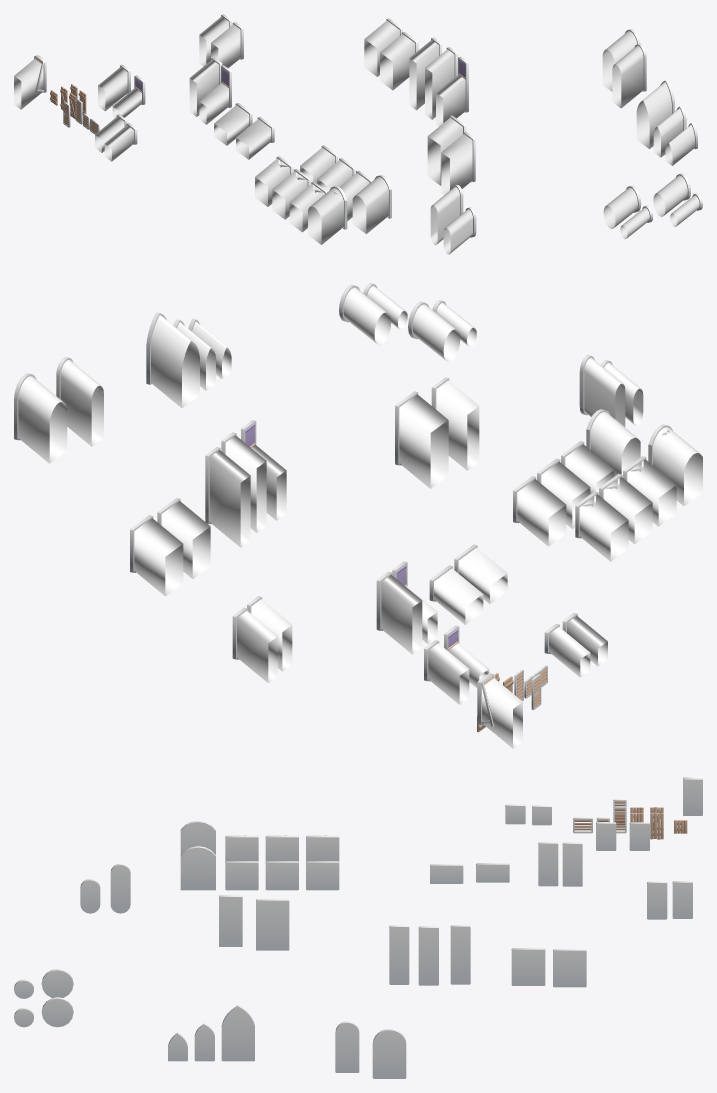
File: windows.glb
3 renders of one model, top to bottom at view 1: azimuth 30°, elevation 25°; view 2: azimuth 150°, elevation 25°; view 3: azimuth 270°, elevation 25°, orthographic. The views are drawn at different scales.
Visible parts, largest first — view 1: (%ignore) (%no-merge) 19, (%ignore) (%no-merge) 18, (%ignore) (%no-merge) 31, (%ignore) (%no-merge) 32, (%ignore) (%no-merge) 11, (%ignore) (%no-merge) 33, (%ignore) (%no-merge) 34, (%ignore) (%no-merge) 4, (%ignore) (%no-merge) 28, (%ignore) (%no-merge) 22, (%ignore) (%no-merge), (%ignore) (%no-merge) 25 (+25 smaller); view 2: (%ignore) (%no-merge) 34, (%ignore) (%no-merge) 11, (%ignore) (%no-merge) 35, (%ignore) (%no-merge) 28, (%ignore) (%no-merge) 36, (%ignore) (%no-merge) 32, (%ignore) (%no-merge) 31, (%ignore) (%no-merge) 18, (%ignore) (%no-merge) 3, (%ignore) (%no-merge) 5, (%ignore) (%no-merge) 10, (%ignore) (%no-merge) 33 (+24 smaller); view 3: window-wide-dividers-tall-extra (%wall), window-medieval-large (%wall), window-wide-dividers-tall-extra-rounded (%wall), window-rounded-closed (%wall), window-wide-dividers-tall (%wall), window-wide-tall (%wall), window-dividers-tall (%wall), window-shutters-tall (%wall), window-tall (%wall), window-wide-dividers-narrow-extra (%wall), window-wide-dividers-narrow-extra-rounded (%wall), window-double (%wall) (+21 smaller).
Boxes of the visible parts, x1,y1,x2,y2 form: (%ignore) (%no-merge) 19: (352, 177, 388, 233); (%ignore) (%no-merge) 18: (308, 188, 343, 244); (%ignore) (%no-merge) 31: (441, 134, 472, 194); (%ignore) (%no-merge) 32: (612, 46, 643, 108); (%ignore) (%no-merge) 11: (636, 82, 671, 148); (%ignore) (%no-merge) 33: (380, 34, 415, 90); (%ignore) (%no-merge) 34: (427, 117, 462, 185); (%ignore) (%no-merge) 4: (425, 49, 454, 119); (%ignore) (%no-merge) 28: (409, 40, 438, 110); (%ignore) (%no-merge) 22: (436, 74, 465, 126); (%ignore) (%no-merge): (430, 186, 460, 245); (%ignore) (%no-merge) 25: (14, 59, 43, 109); (%ignore) (%no-merge) 34: (399, 394, 448, 488); (%ignore) (%no-merge) 11: (151, 315, 199, 407); (%ignore) (%no-merge) 35: (18, 376, 67, 463); (%ignore) (%no-merge) 28: (209, 450, 250, 547); (%ignore) (%no-merge) 36: (134, 518, 183, 596); (%ignore) (%no-merge) 32: (60, 360, 103, 446); (%ignore) (%no-merge) 31: (436, 380, 479, 470); (%ignore) (%no-merge) 18: (653, 427, 702, 505); (%ignore) (%no-merge) 3: (381, 575, 422, 654); (%ignore) (%no-merge) 5: (517, 479, 566, 546); (%ignore) (%no-merge) 10: (579, 494, 628, 561); (%ignore) (%no-merge) 33: (161, 501, 210, 578); window-wide-dividers-tall-extra (%wall): (256, 899, 289, 950); window-medieval-large (%wall): (221, 1005, 254, 1061); window-wide-dividers-tall-extra-rounded (%wall): (372, 1028, 406, 1078); window-rounded-closed (%wall): (180, 846, 215, 890); window-wide-dividers-tall (%wall): (511, 948, 545, 985); window-wide-tall (%wall): (553, 949, 586, 987); window-dividers-tall (%wall): (418, 926, 438, 985); window-shutters-tall (%wall): (389, 925, 409, 984); window-tall (%wall): (450, 925, 470, 984); window-wide-dividers-narrow-extra (%wall): (219, 895, 242, 946); window-wide-dividers-narrow-extra-rounded (%wall): (335, 1021, 359, 1072); window-double (%wall): (306, 861, 339, 890).
Bounding box in the file's own units: 19.52 × 2.36 × 20.52.
Materials: 3 (1 with a texture image).
